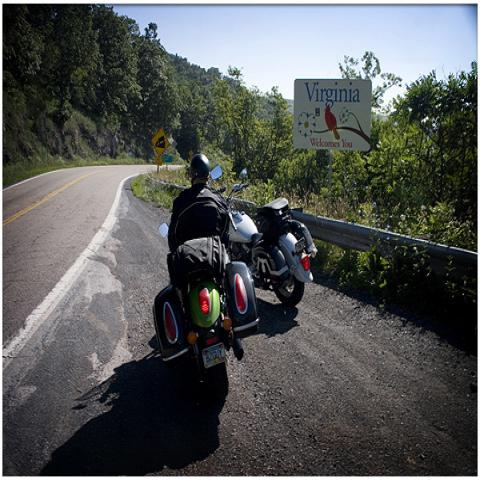motorcycle: (157, 224, 261, 403), (222, 170, 314, 311)
